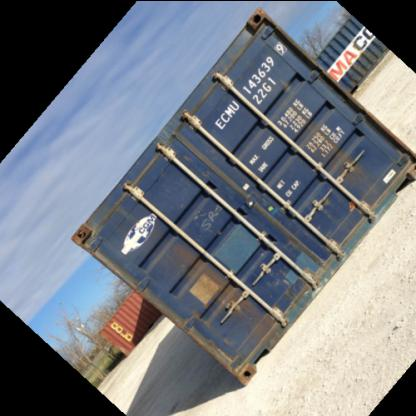Damage: (305, 131, 371, 189), (185, 270, 249, 320), (263, 251, 323, 299), (190, 199, 226, 233), (70, 227, 100, 245), (244, 14, 272, 33)
